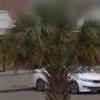Palm tree: (24, 11, 91, 95)
